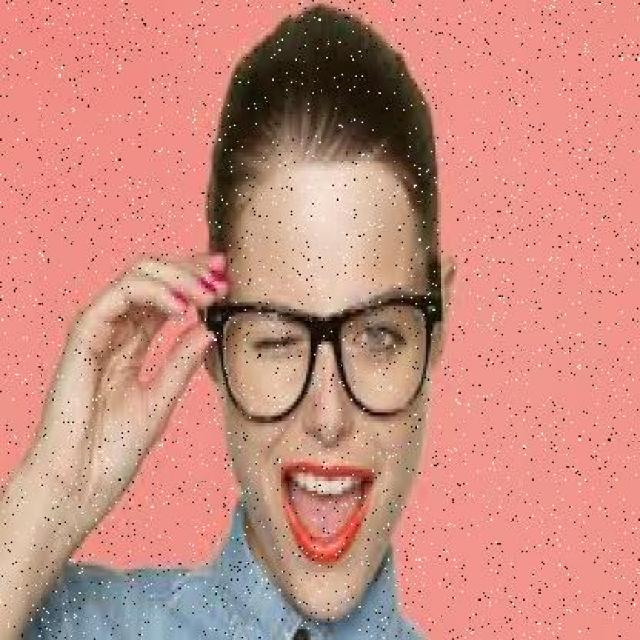glasses: (207, 284, 442, 430)
